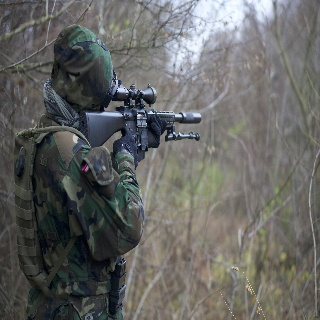rifle: (79, 82, 202, 169)
